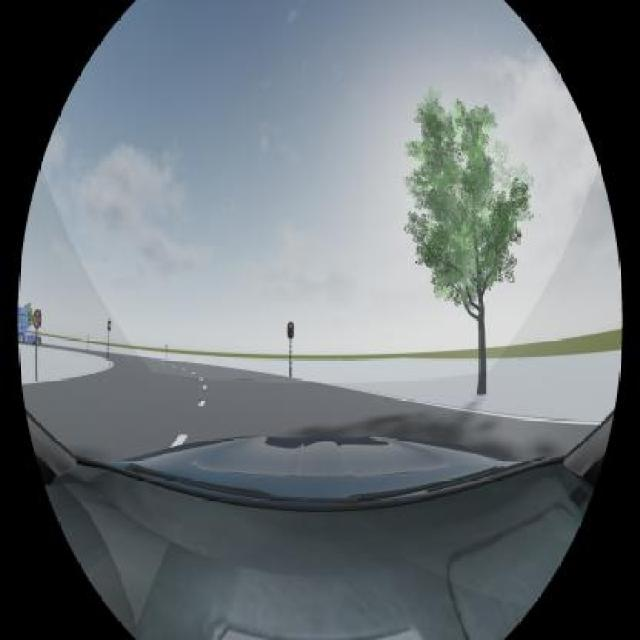forb_speed_over_70: (33, 309, 41, 329)
